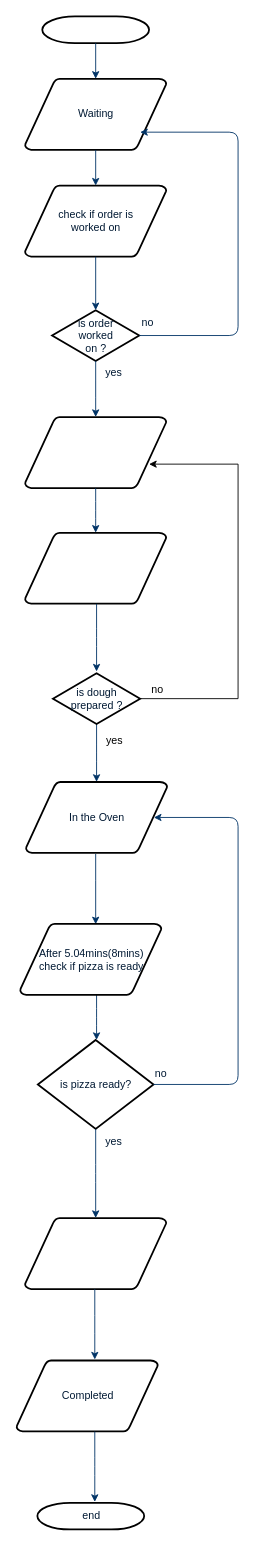
Image size: 261x1545. Some labels were removed from this diagram. Each missing label, with the box of its shape:
After 4.02min(7mins) check if dough is prepared: (24, 531, 167, 604)
In Progress: (24, 416, 167, 489)
Ready: (24, 1217, 167, 1290)
start: (41, 15, 150, 44)
